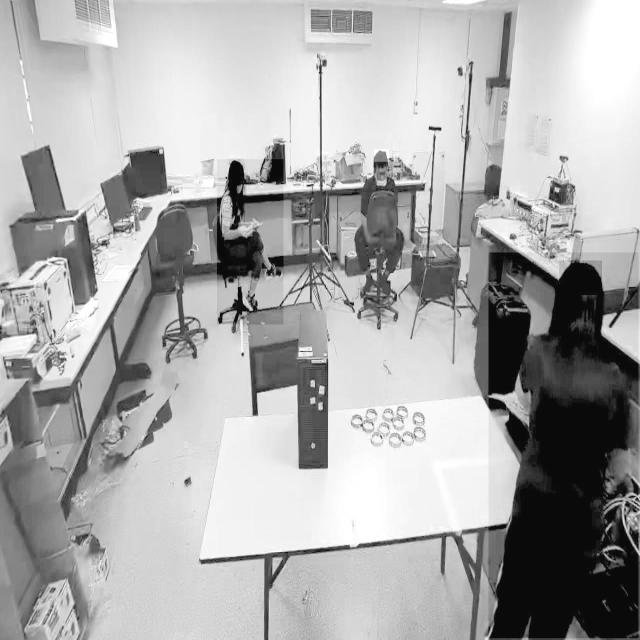face_mask: (234, 173, 246, 199)
hand_noglove: (238, 222, 252, 238)
head_nohelmet: (558, 260, 602, 296), (373, 149, 389, 163), (228, 158, 244, 172)
person: (488, 253, 638, 639), (216, 159, 284, 325), (354, 140, 408, 303)
shoes: (242, 286, 262, 318), (360, 268, 376, 302), (375, 269, 394, 297), (263, 262, 284, 286)
